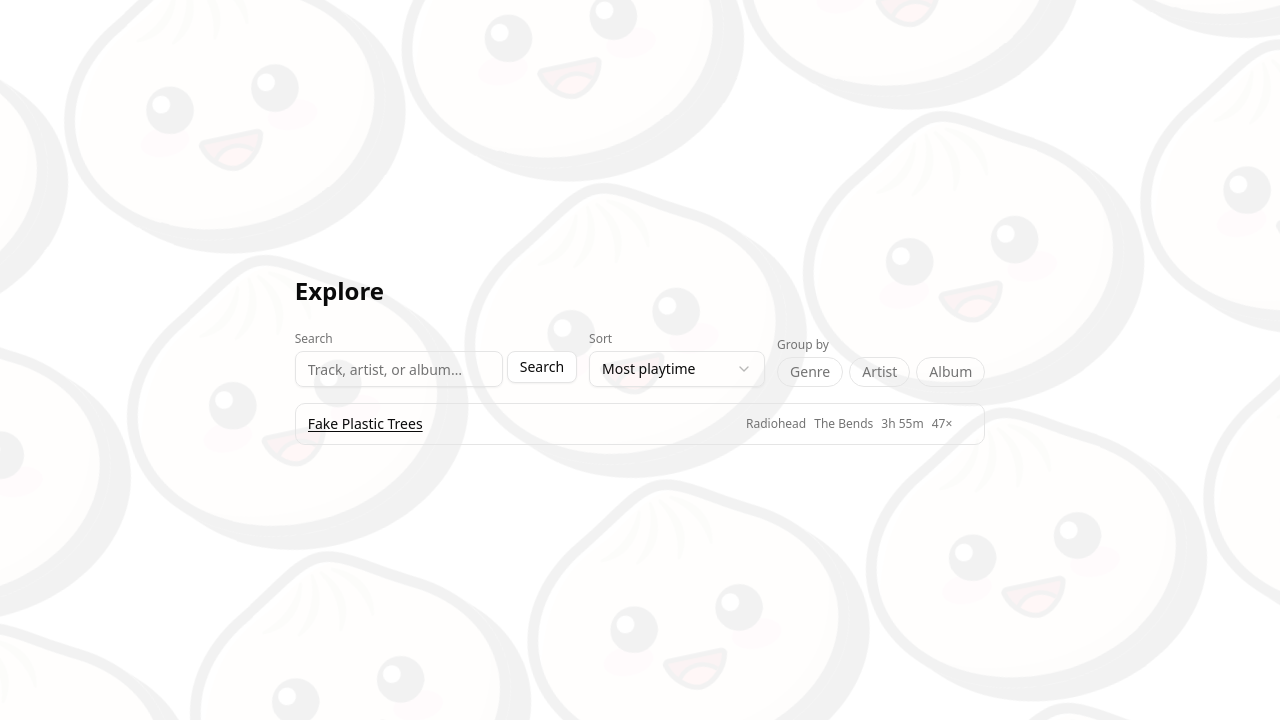
ExplorePage › shows search clear button when search is active
Check: the text "Fake Plastic Trees" is shown, box [308,414,423,433]
Type "test" into the field with placeholder "Track, artist, or album…".
click(399, 369); type("test")  # box [295,351,503,387]
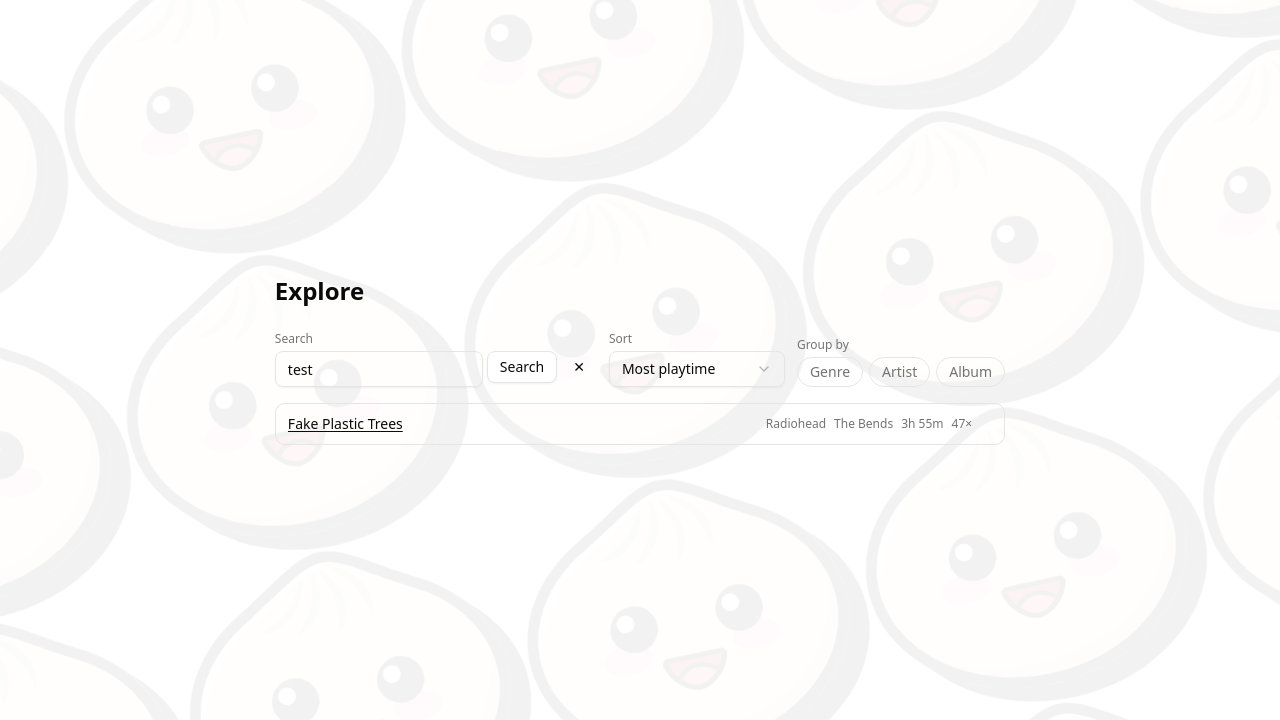
Check: the button named "Clear search" is shown, box [561,351,597,383]
